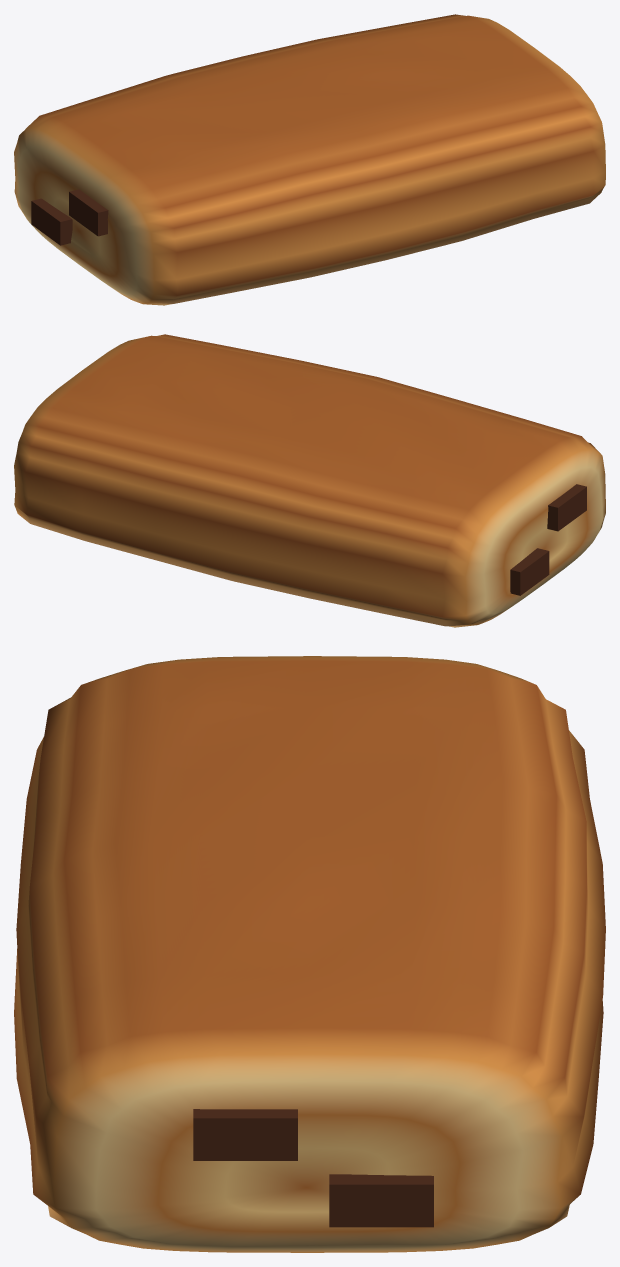
File: pain-au-chocolat.glb
The picture shows the model from 3 angles, top to bottom: view 1: azimuth 30°, elevation 25°; view 2: azimuth 150°, elevation 25°; view 3: azimuth 270°, elevation 25°; orthographic projection. The views are drawn at different scales.
Parts seen in each view (by area): view 1: pain-au-chocolat-pastry, pain-au-chocolat-chocolate; view 2: pain-au-chocolat-pastry, pain-au-chocolat-chocolate; view 3: pain-au-chocolat-pastry, pain-au-chocolat-chocolate.
Boxes of the visible parts, left/top/right/bottom form: pain-au-chocolat-pastry: left=14, top=14, right=605, bottom=305; pain-au-chocolat-chocolate: left=31, top=189, right=108, bottom=245; pain-au-chocolat-pastry: left=14, top=334, right=605, bottom=627; pain-au-chocolat-chocolate: left=510, top=484, right=586, bottom=595; pain-au-chocolat-pastry: left=14, top=656, right=605, bottom=1252; pain-au-chocolat-chocolate: left=193, top=1109, right=433, bottom=1227.
Bounding box in the file's own units: 1 × 0.2504 × 0.58.
